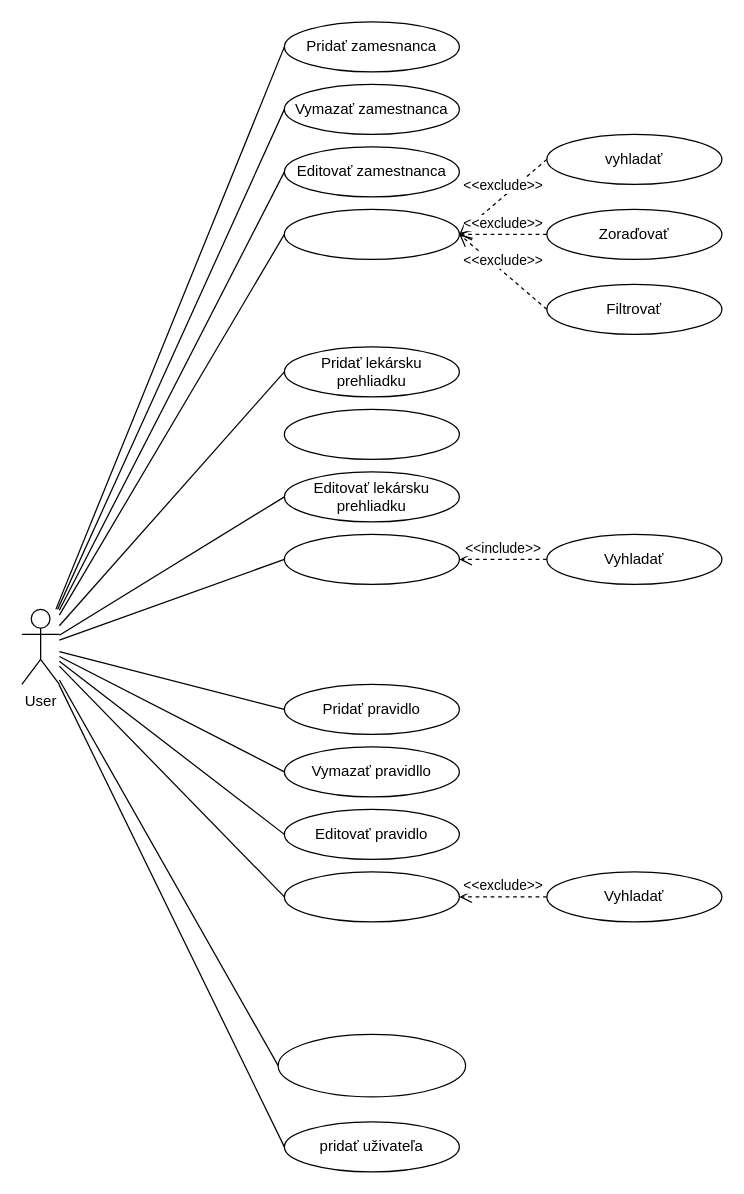
This 744x1194 diagram has some shape labels left out. Here are the shapes that lost their labels. From the top down, the box of each, then its label:
(283, 208, 459, 259): Zobraziť zamesnancov
(283, 408, 459, 459): Vymazať lekársku prehliadku
(283, 533, 459, 584): Zobraziť lekársku prehliadku
(283, 871, 459, 922): Zobraziť pravidlo
(277, 1033, 466, 1097): načítať súbor s dátami zamestnancov
